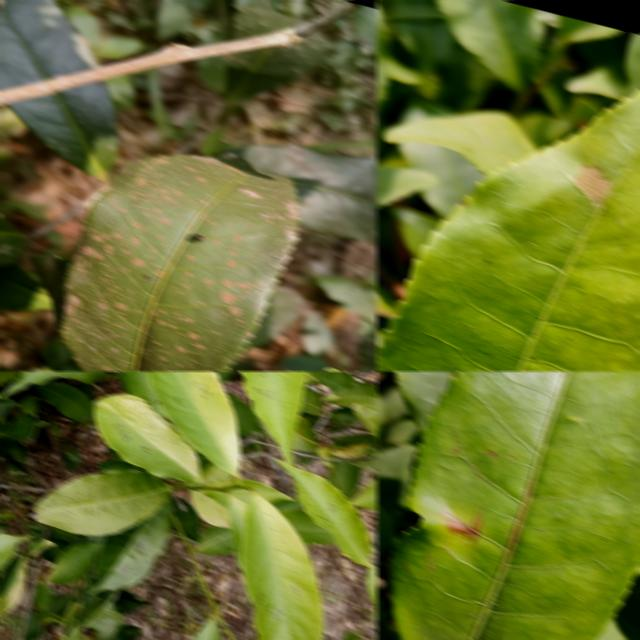Leaf: (376, 90, 640, 371), (390, 371, 640, 640), (61, 155, 299, 371), (237, 144, 378, 240), (241, 493, 324, 640), (5, 81, 117, 174), (277, 460, 371, 565), (434, 0, 544, 89), (383, 110, 535, 174), (148, 371, 241, 475), (93, 393, 201, 482), (34, 469, 171, 535), (90, 492, 175, 593), (0, 0, 93, 89), (220, 35, 324, 105), (240, 371, 307, 463), (394, 371, 457, 429), (376, 165, 438, 207), (74, 590, 124, 639), (35, 381, 95, 421), (47, 542, 101, 583), (4, 371, 92, 394), (123, 371, 165, 415), (233, 6, 292, 37), (0, 556, 26, 615), (376, 502, 396, 564), (332, 381, 378, 406), (352, 403, 378, 439), (351, 477, 378, 509), (7, 413, 36, 440), (33, 580, 53, 611)
